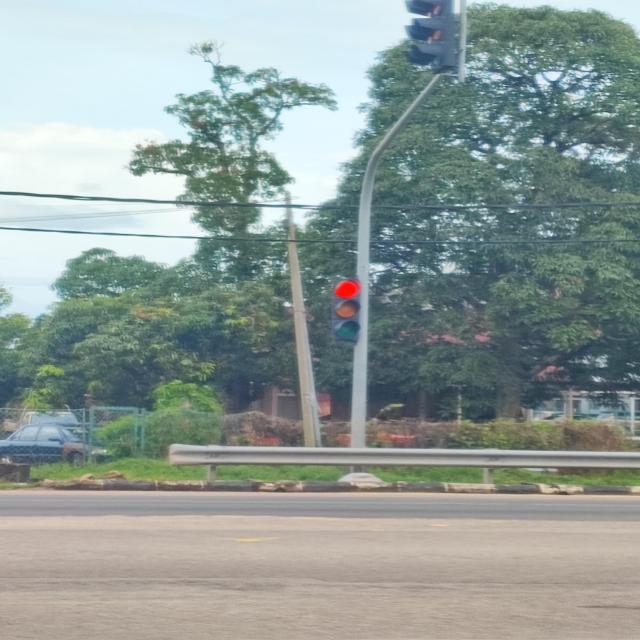car: (0, 423, 110, 468)
traffic light: (403, 0, 462, 79), (405, 16, 459, 74), (332, 278, 361, 344)
